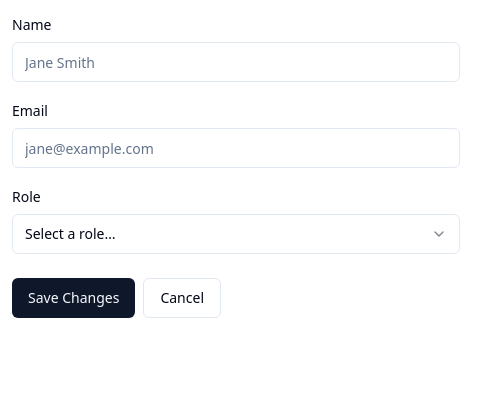
Test: UserForm › edit mode › shows validation errors on empty submit in edit mode
The width and height of the screenshot is (477, 405).
Click the button "Save Changes" at (74, 298), box [12,278,135,318]
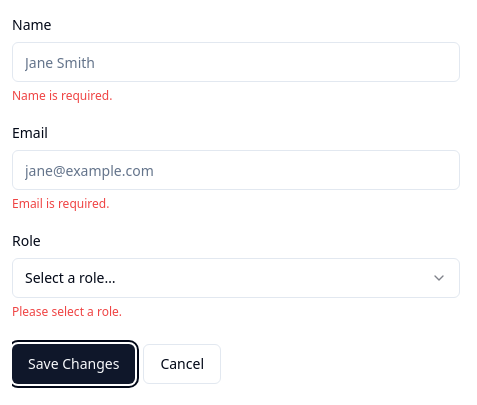
Expected: the text "Name is required." is shown, [12,87,112,104]
Expected: the text "Email is required." is shown, [12,195,109,212]
